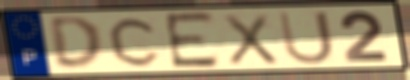2: (338, 9, 391, 65)
C: (106, 15, 164, 68)
D: (46, 15, 106, 72)
E: (161, 10, 222, 71)
U: (276, 10, 337, 67)
X: (220, 12, 281, 67)
